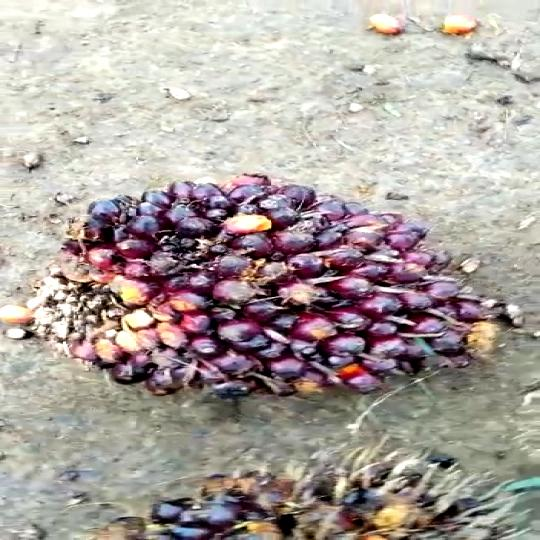mentah: (38, 166, 501, 410)
